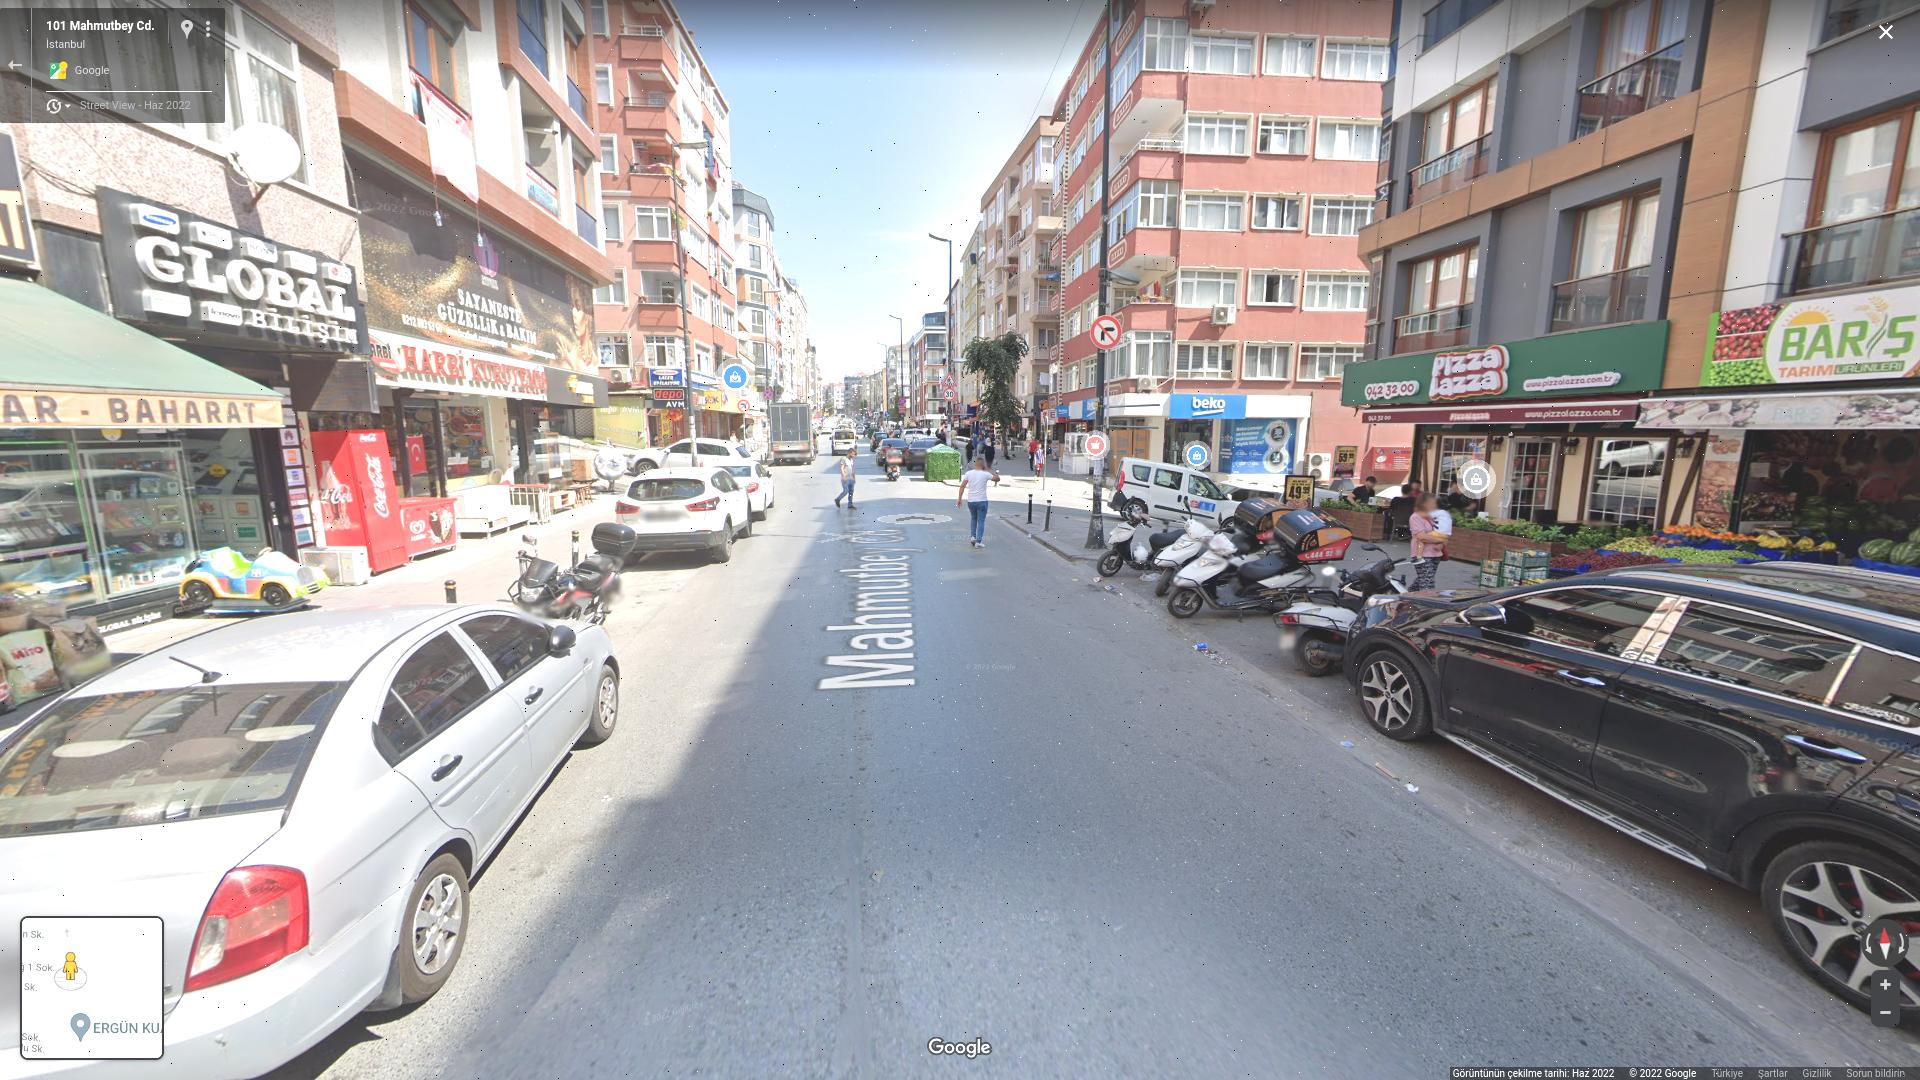rightturnsareforbidden: (1092, 315, 1121, 347)
